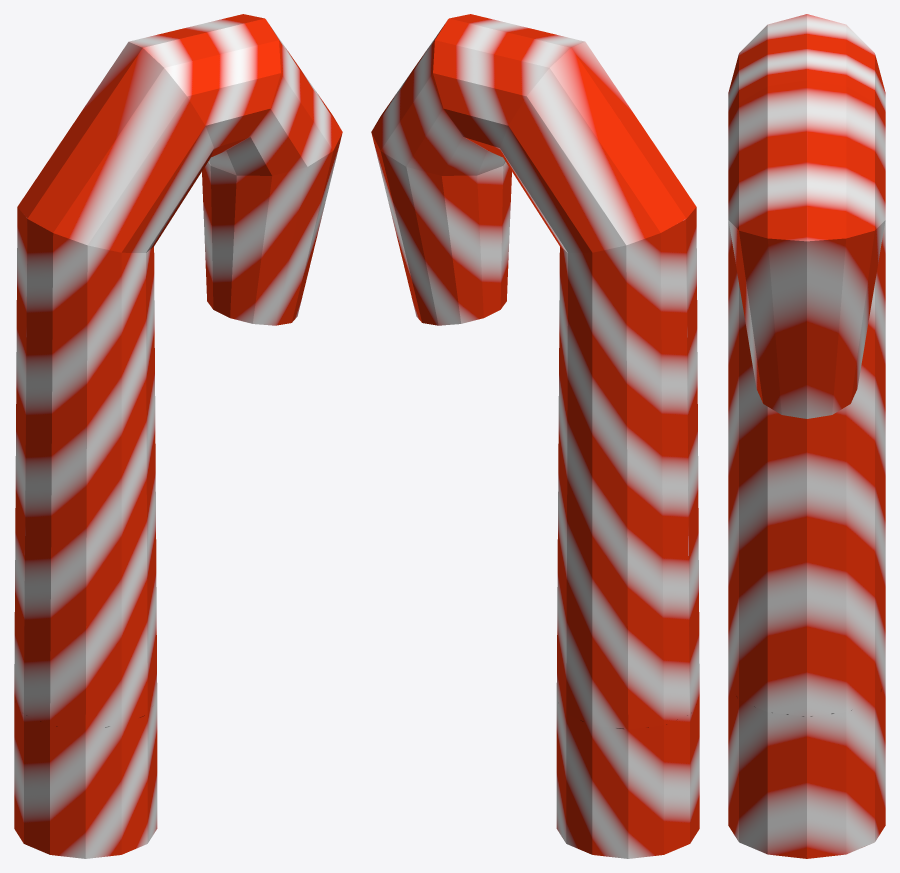
Rendered from candycane2.fbx.
3 renders of one model, left to right at view 1: azimuth 30°, elevation 25°; view 2: azimuth 150°, elevation 25°; view 3: azimuth 270°, elevation 25°, orthographic. The views are drawn at different scales.
Visible parts, largest first — view 1: Cylinder; view 2: Cylinder; view 3: Cylinder.
Boxes of the visible parts, x1=… form: Cylinder: x1=14, y1=14, x2=342, y2=858; Cylinder: x1=371, y1=14, x2=699, y2=858; Cylinder: x1=728, y1=14, x2=885, y2=858.
Size of the model in its own units: 499 by 1184 by 200.
1 material, 1 textured.
